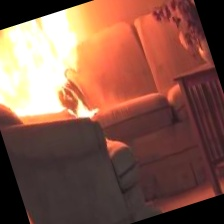fire: (0, 6, 112, 151)
